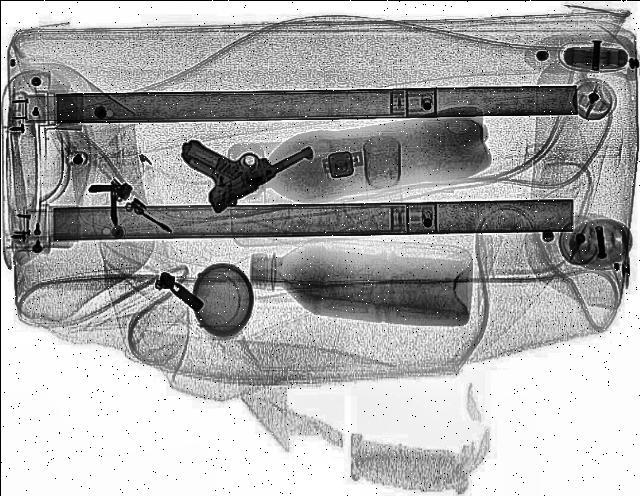Gun: (172, 114, 330, 216)
